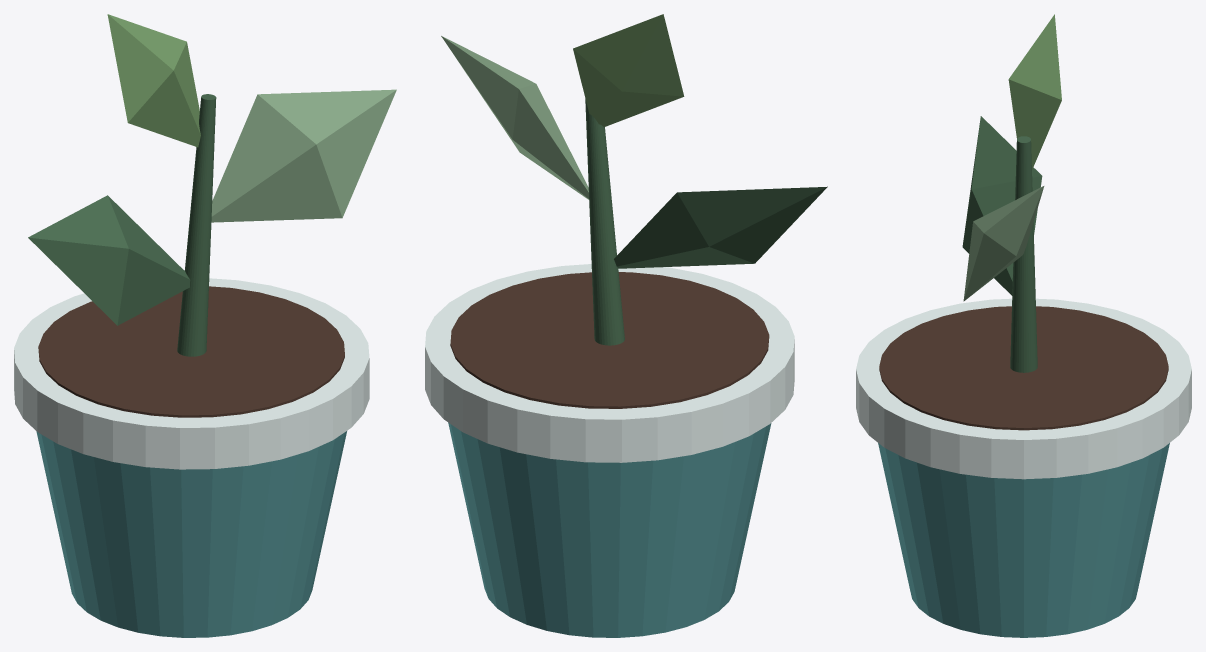
Rendered from pot.glb.
3 renders of one model, left to right at view 1: azimuth 30°, elevation 25°; view 2: azimuth 150°, elevation 25°; view 3: azimuth 270°, elevation 25°, orthographic. The views are drawn at different scales.
Visible parts, largest first — view 1: ceramic pot, soil, rim, leaf 2, leaf 1, leaf 3, stem; view 2: ceramic pot, soil, rim, leaf 1, leaf 3, leaf 2, stem; view 3: ceramic pot, soil, rim, leaf 3, leaf 2, leaf 1, stem.
Part boxes in pixels (x1=…): ceramic pot: x1=36, y1=431, x2=346, y2=637; soil: x1=38, y1=286, x2=344, y2=417; rim: x1=14, y1=278, x2=369, y2=469; leaf 2: x1=211, y1=89, x2=396, y2=222; leaf 1: x1=28, y1=195, x2=190, y2=325; leaf 3: x1=107, y1=14, x2=200, y2=147; stem: x1=177, y1=94, x2=216, y2=356; ceramic pot: x1=448, y1=422, x2=771, y2=637; soil: x1=450, y1=272, x2=769, y2=408; rim: x1=425, y1=264, x2=794, y2=462; leaf 1: x1=614, y1=186, x2=827, y2=268; leaf 3: x1=573, y1=14, x2=684, y2=127; leaf 2: x1=441, y1=36, x2=589, y2=199; stem: x1=585, y1=99, x2=624, y2=345; ceramic pot: x1=878, y1=443, x2=1169, y2=637; soil: x1=879, y1=306, x2=1168, y2=430; rim: x1=856, y1=298, x2=1191, y2=479; leaf 3: x1=1008, y1=14, x2=1061, y2=169; leaf 2: x1=963, y1=186, x2=1044, y2=301; leaf 1: x1=962, y1=116, x2=1042, y2=295; stem: x1=1010, y1=136, x2=1037, y2=372.
Bounding box in the file's own units: 1.31 × 1.95 × 1.09.
